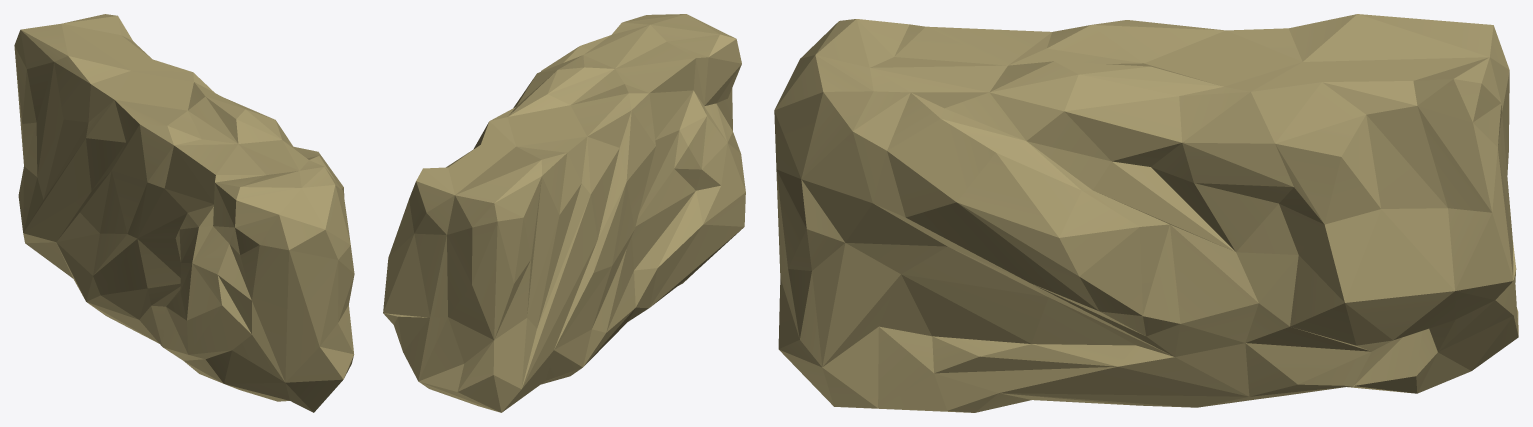
The model's file is SM_rock_60.fbx.
3 renders of one model, left to right at view 1: azimuth 30°, elevation 25°; view 2: azimuth 150°, elevation 25°; view 3: azimuth 270°, elevation 25°, orthographic. The views are drawn at different scales.
Parts seen in each view (by area): view 1: rock_60; view 2: rock_60; view 3: rock_60.
Boxes of the visible parts, box(x1,y1,x2,y2) form: rock_60: box(14, 14, 354, 412); rock_60: box(383, 14, 745, 412); rock_60: box(774, 14, 1518, 412).
Bounding box in the file's own units: 84.58 × 111 × 208.
